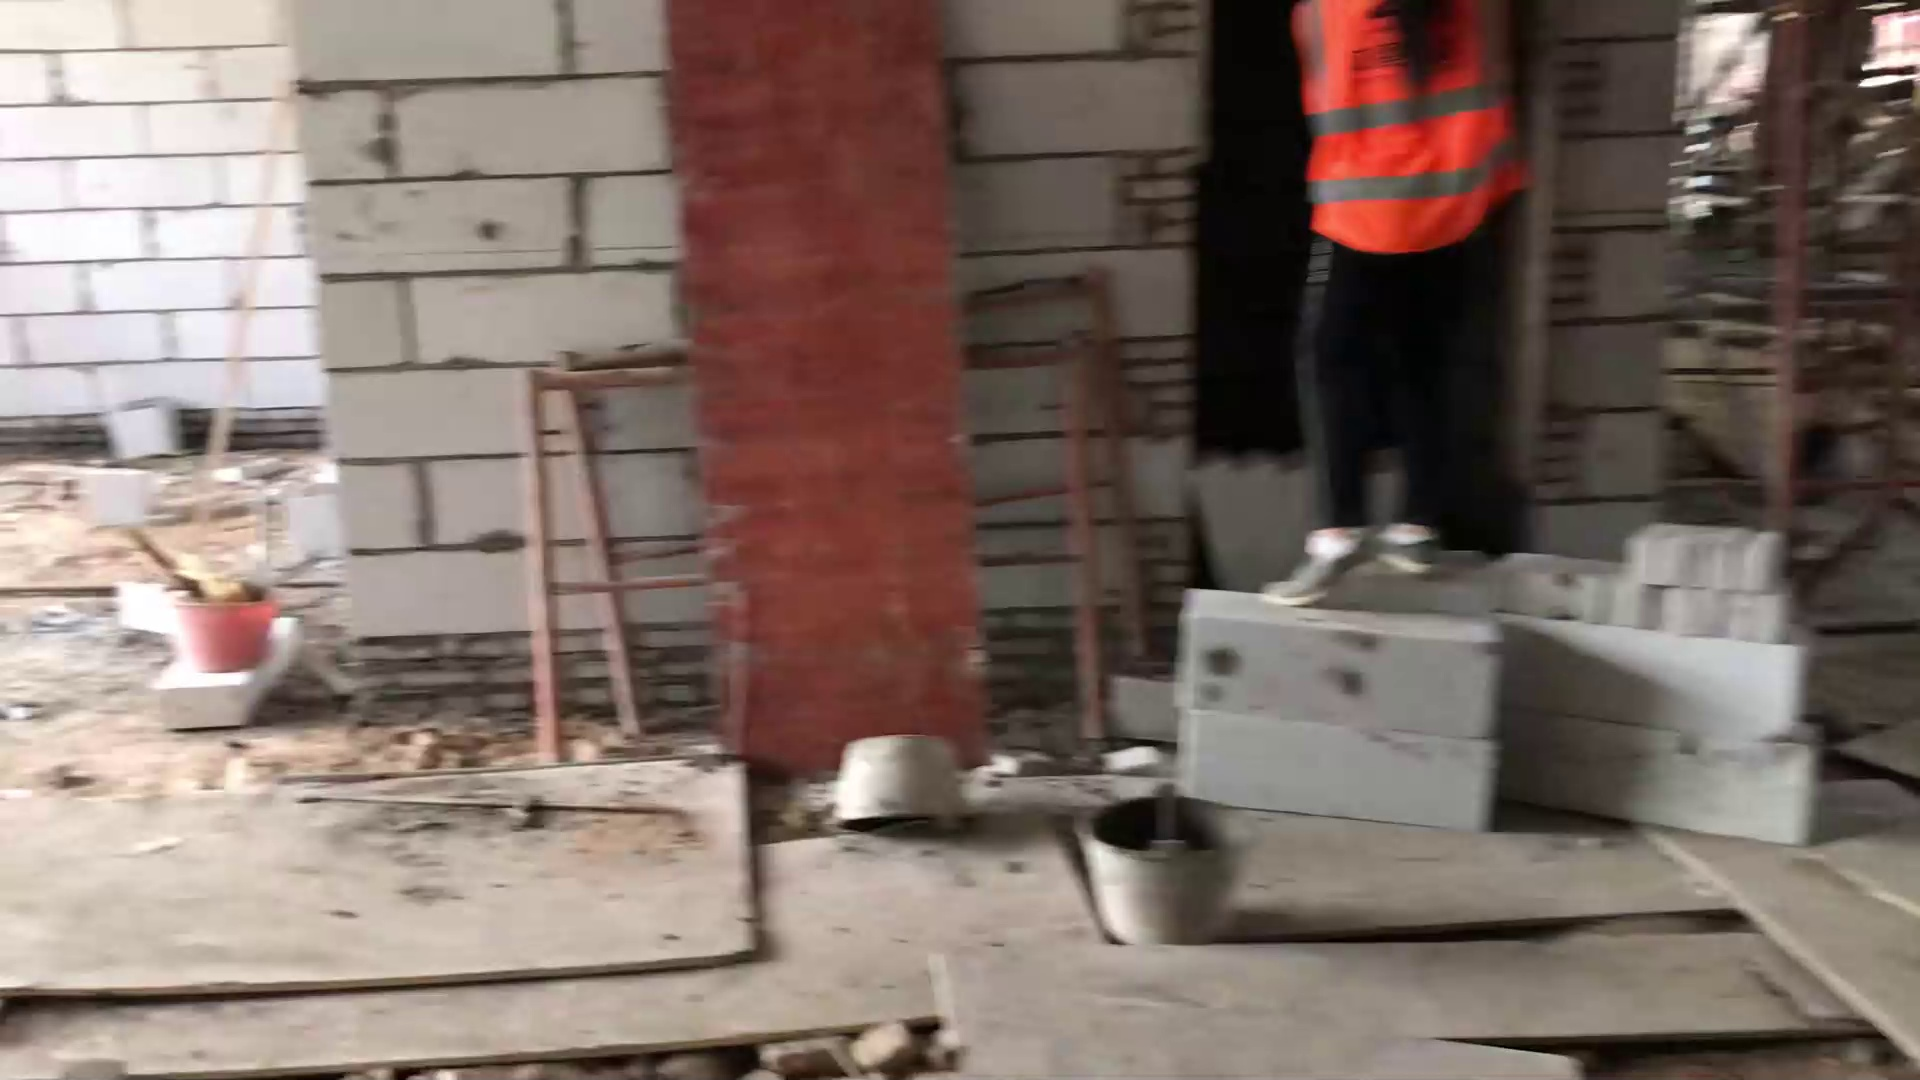brick: (1155, 571, 1510, 847), (1491, 628, 1843, 847)
person: (1255, 1, 1552, 624)
vest: (1286, 1, 1543, 252)
